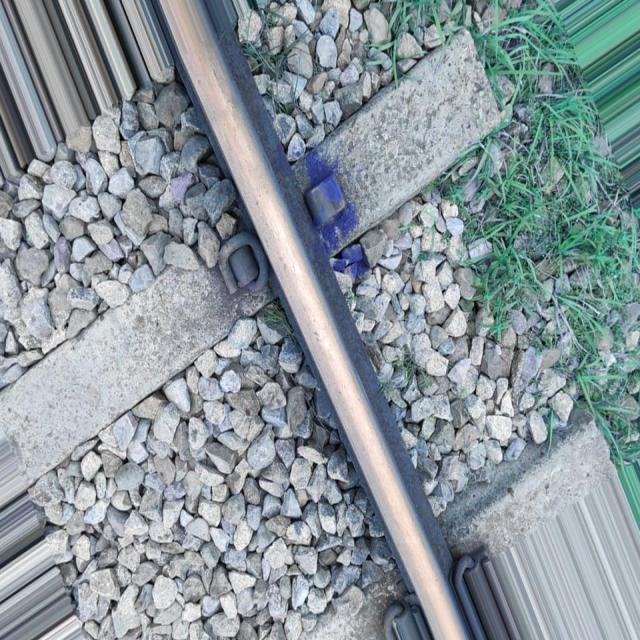Good Fasteners: (448, 501, 534, 639), (203, 223, 276, 326), (375, 603, 414, 639)
Missing Fastener: (302, 164, 378, 265)
